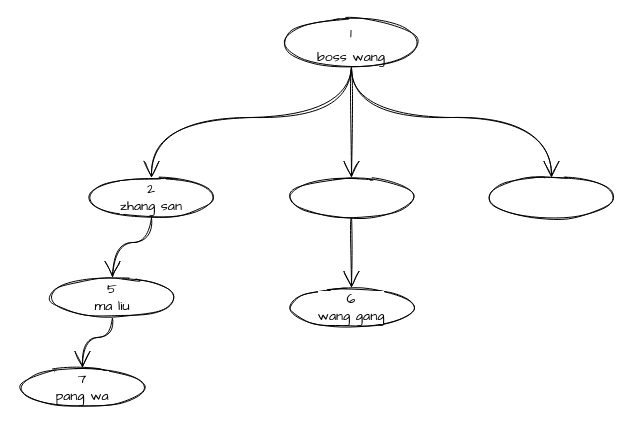
The diagram is 634 pixels wide and 425 high, and some of its shapes have lost their labels. The shapes that lost their labels are listed below. From the top down, each one's centre as x and y in pixels, then its label:
(351,197): 3 li si
(551,197): 4 wang wu
